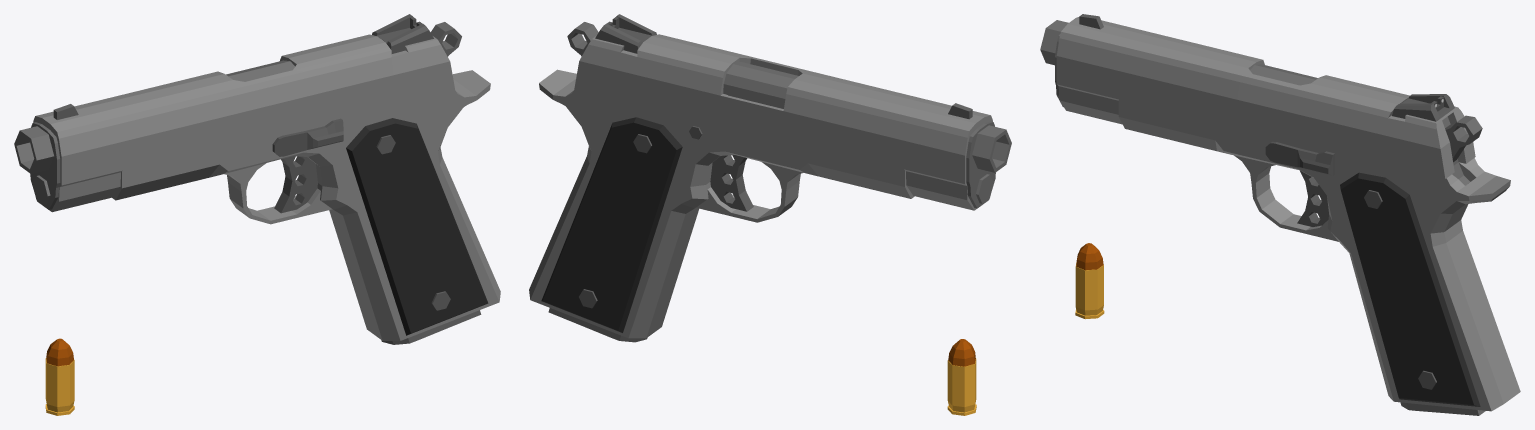
3 renders of one model, left to right at view 1: azimuth 30°, elevation 25°; view 2: azimuth 150°, elevation 25°; view 3: azimuth 330°, elevation 25°, orthographic.
Parts seen in each view (by area): view 1: Cube, Cylinder.005, Cube.008; view 2: Cube, Cylinder.005, Cube.008; view 3: Cube, Cylinder.005, Cube.008.
Part boxes in pixels (left/top/right/bottom): Cube: left=14, top=14, right=500, bottom=340; Cylinder.005: left=45, top=338, right=74, bottom=415; Cube.008: left=381, top=310, right=481, bottom=344; Cube: left=529, top=14, right=1011, bottom=338; Cylinder.005: left=947, top=339, right=976, bottom=415; Cube.008: left=548, top=308, right=647, bottom=342; Cube: left=1040, top=14, right=1520, bottom=411; Cylinder.005: left=1075, top=243, right=1104, bottom=319; Cube.008: left=1400, top=402, right=1485, bottom=415.
Bounding box in the file's own units: 743 × 476 × 101.
Materials: 2 (1 with a texture image).
